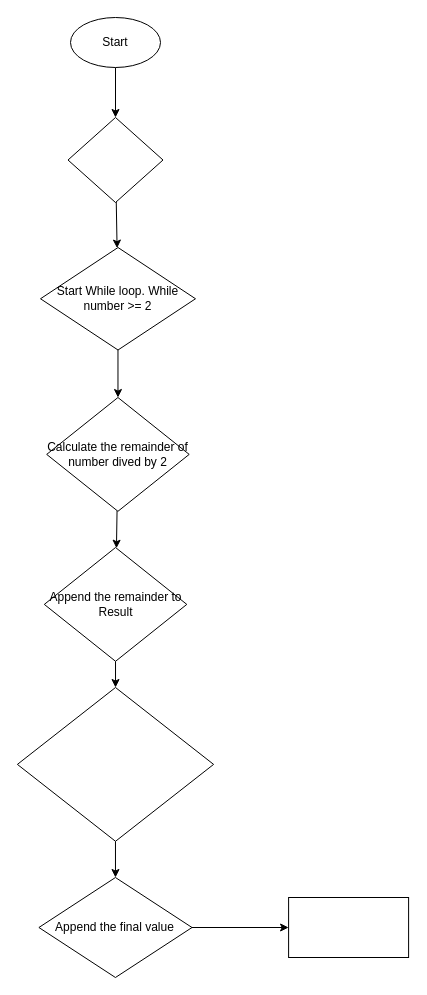
The diagram is 427 pixels wide and 995 high, and some of its shapes have lost their labels. Each missing label, with the box of its shape:
Input number: (67, 116, 163, 202)
Print result: (288, 896, 409, 958)
Update number to be the quotient of number divided by 2: (16, 686, 214, 841)
